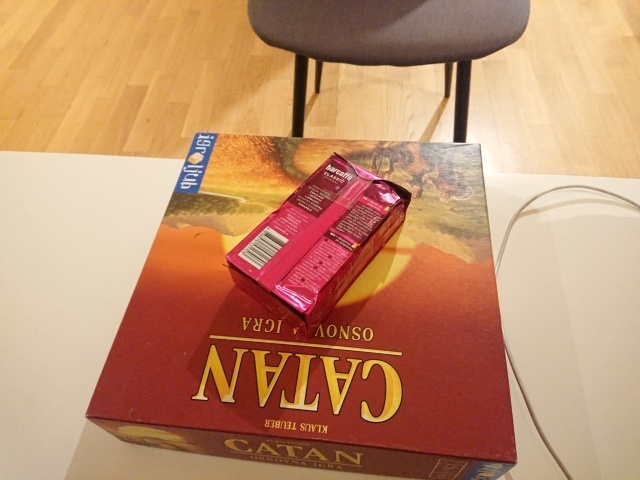Barcaffe Classic Original 225g: (224, 149, 415, 342)
